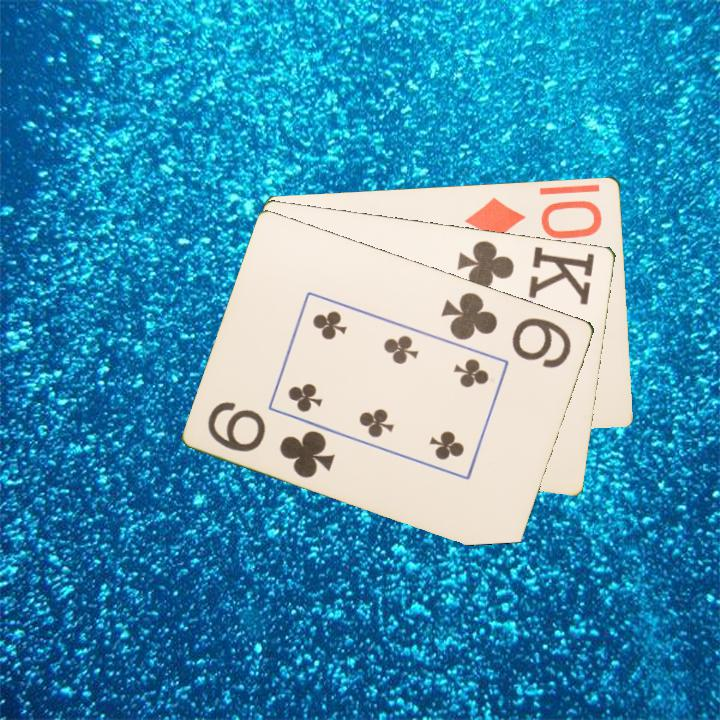10d: (461, 193, 605, 244)
6c: (438, 288, 575, 371), (204, 397, 338, 481)
Kc: (453, 236, 598, 306)
